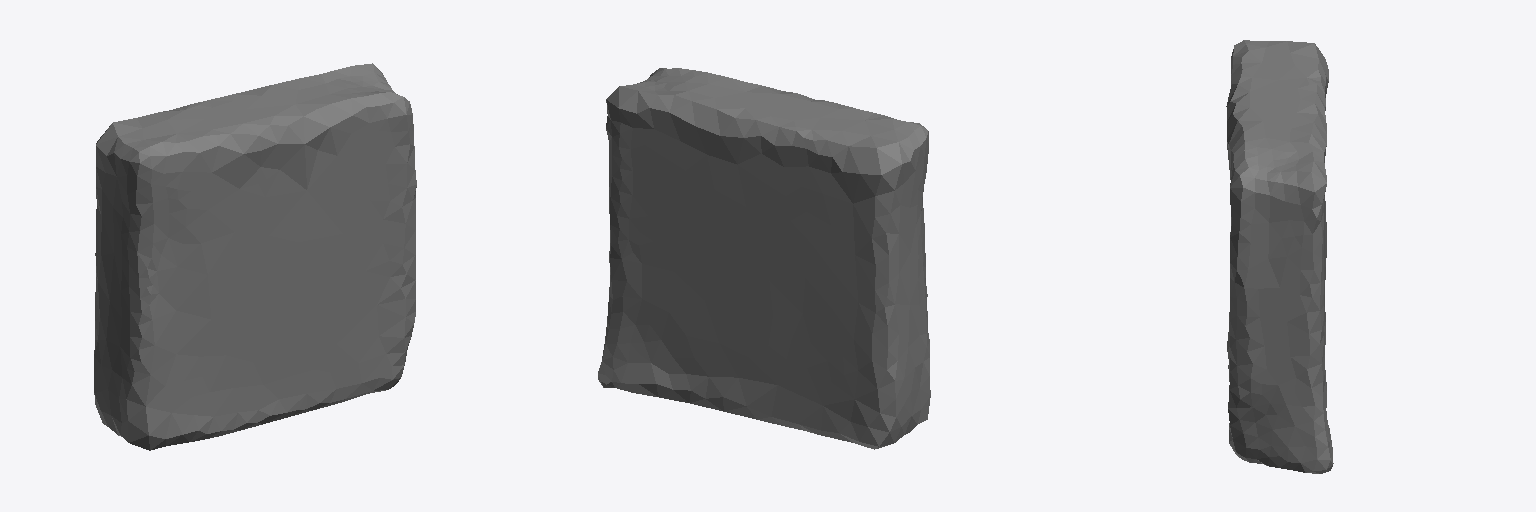
The model's file is StonePlatform_A.obj.
3 views of the same model, side by side, from view 1: azimuth 30°, elevation 25°; view 2: azimuth 150°, elevation 25°; view 3: azimuth 270°, elevation 25° (orthographic).
Visible parts, largest first — view 1: Stone_A; view 2: Stone_A; view 3: Stone_A.
Boxes of the visible parts, <box> form: Stone_A: <box>94,63,416,450</box>; Stone_A: <box>598,68,930,449</box>; Stone_A: <box>1226,40,1333,473</box>.
Bounding box in the file's own units: 20.97 × 20.74 × 6.61.